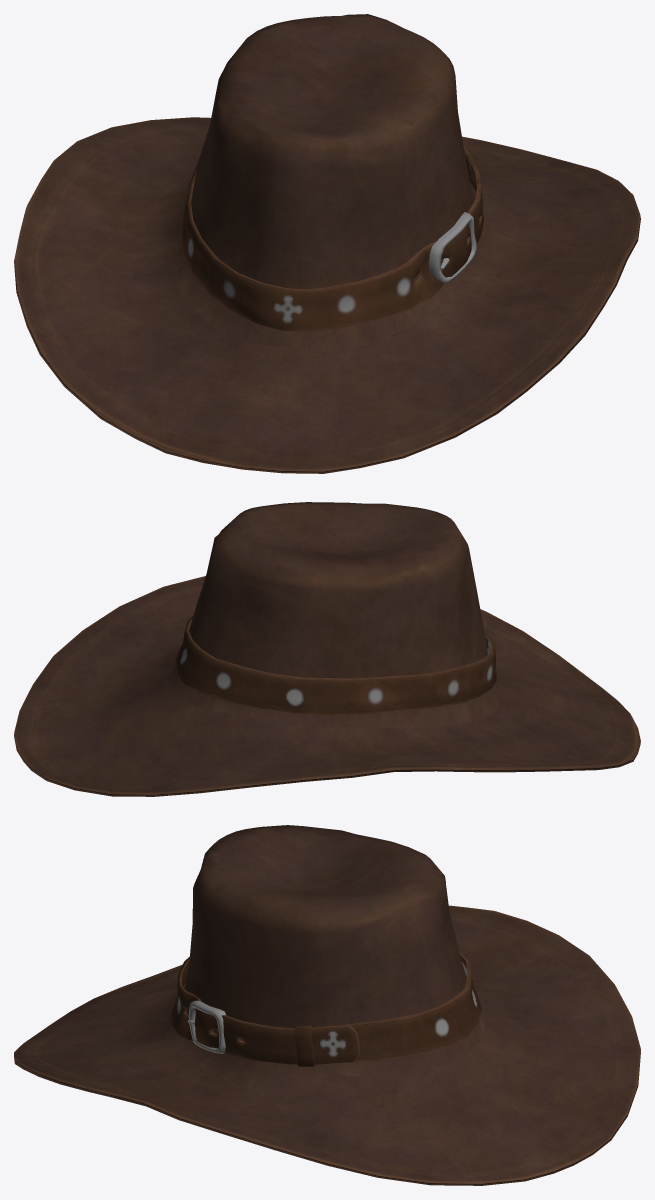
Rendered from Cowboy hat.gltf.
The picture shows the model from 3 angles, top to bottom: view 1: azimuth 30°, elevation 25°; view 2: azimuth 150°, elevation 25°; view 3: azimuth 270°, elevation 25°; orthographic projection. The views are drawn at different scales.
Visible parts, largest first — view 1: Cowboy_hat; view 2: Cowboy_hat; view 3: Cowboy_hat.
Boxes of the visible parts, left/top/right/bottom form: Cowboy_hat: left=14, top=14, right=640, bottom=473; Cowboy_hat: left=14, top=502, right=640, bottom=796; Cowboy_hat: left=14, top=825, right=640, bottom=1185.
Bounding box in the file's own units: 0.5645 × 0.2385 × 0.5665.
1 material, 1 textured.
